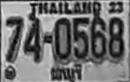0: (53, 17, 70, 59)
4: (22, 18, 40, 61)
5: (72, 17, 88, 58)
6: (90, 16, 105, 58)
7: (5, 16, 23, 60)
8: (108, 16, 123, 60)
CBI: (47, 64, 86, 82)
